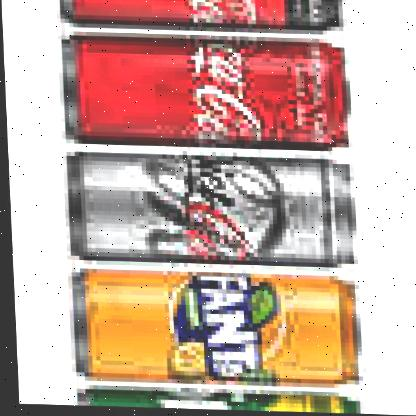Can: (58, 149, 360, 275), (63, 268, 363, 394), (57, 31, 356, 157), (57, 0, 347, 38), (68, 386, 362, 414)
